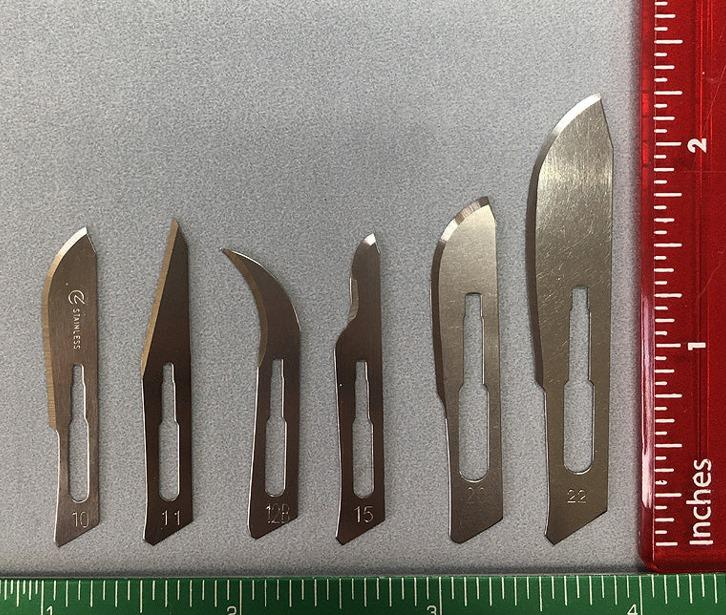Knife Blade: (520, 87, 622, 552), (10, 219, 122, 546), (424, 191, 513, 550), (219, 225, 314, 555), (130, 197, 210, 560), (331, 218, 402, 556)
